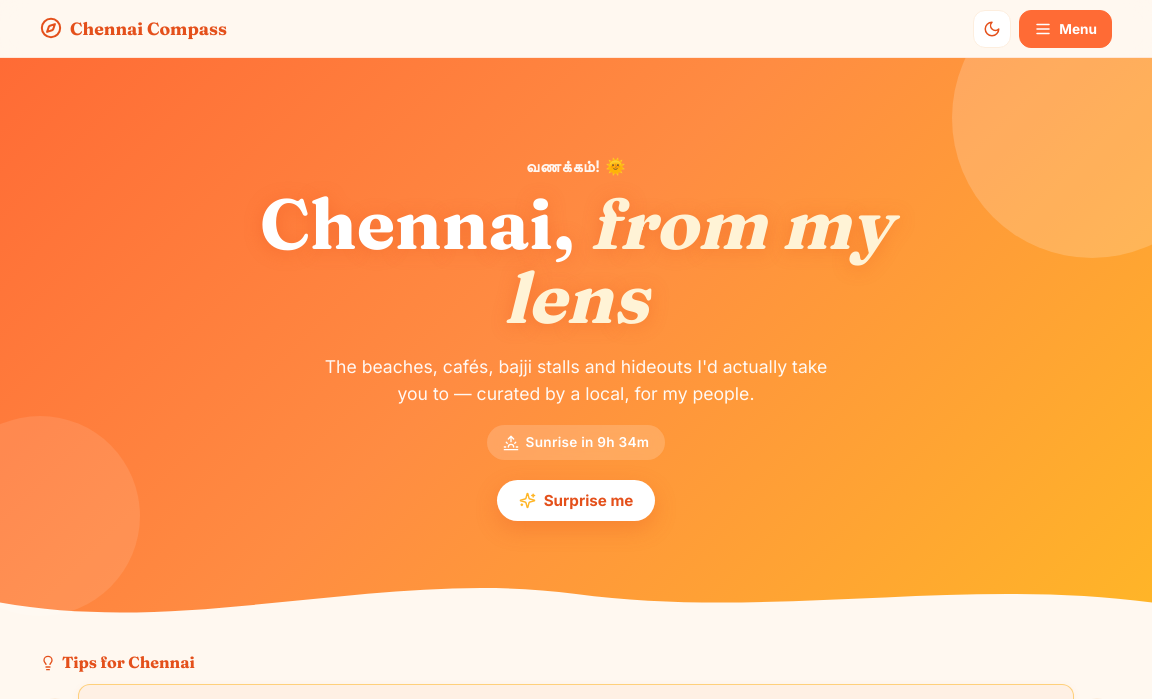
Test: surprise me › opens a single random recommendation from the hero button
The width and height of the screenshot is (1152, 699).
Click the button "Surprise me": (576, 501) [497,480,655,521]
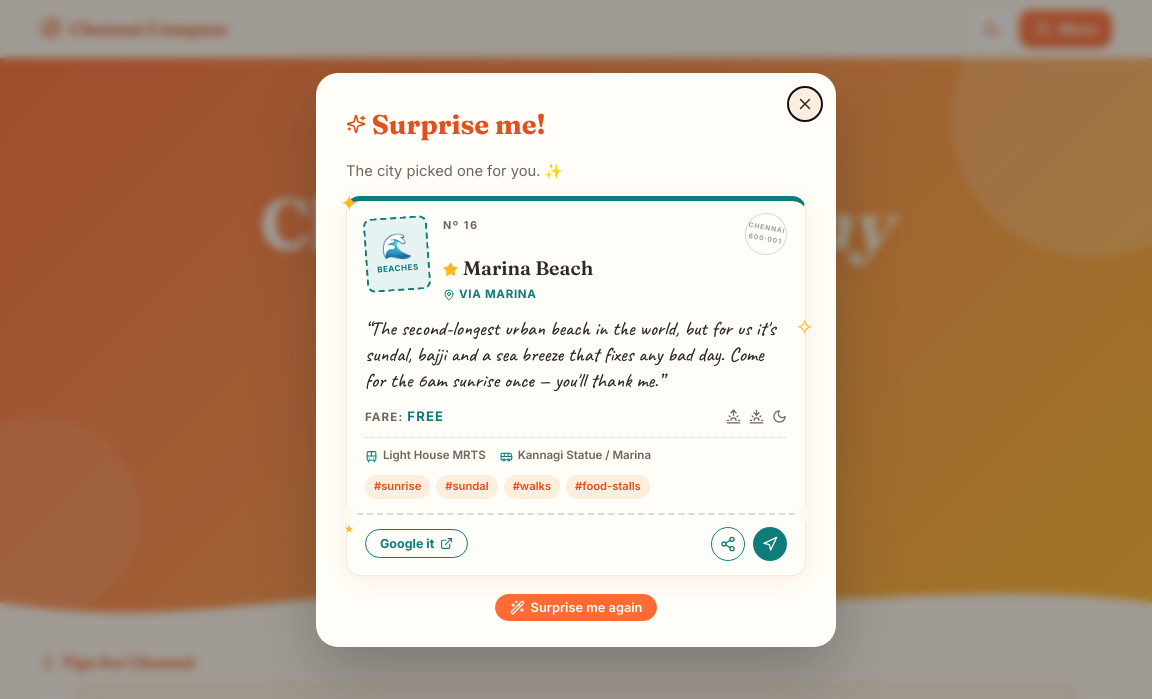
Check: the heading "Marina Beach" is shown, box [443,256,593,280]
